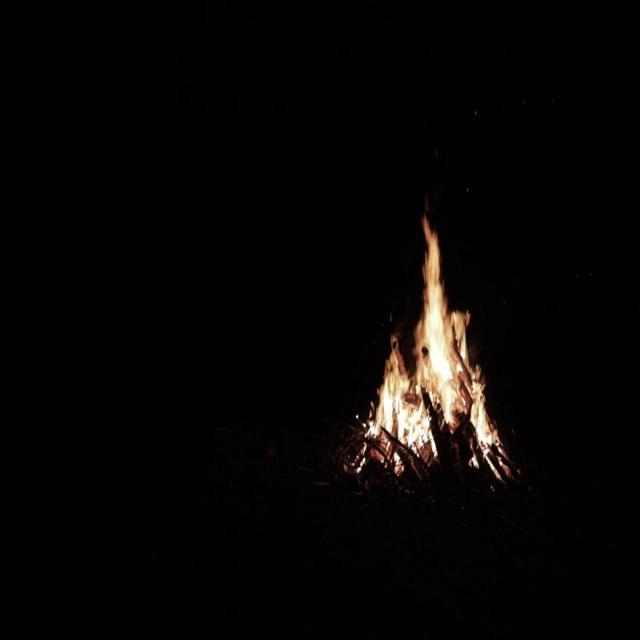Fire: (359, 196, 506, 462)
